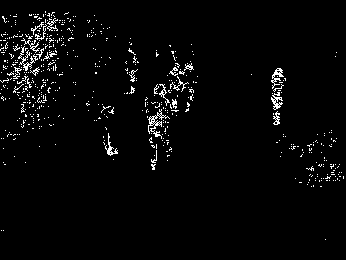person: (144, 83, 173, 171), (121, 48, 143, 91), (270, 68, 286, 125), (169, 61, 184, 114), (185, 60, 197, 111)
